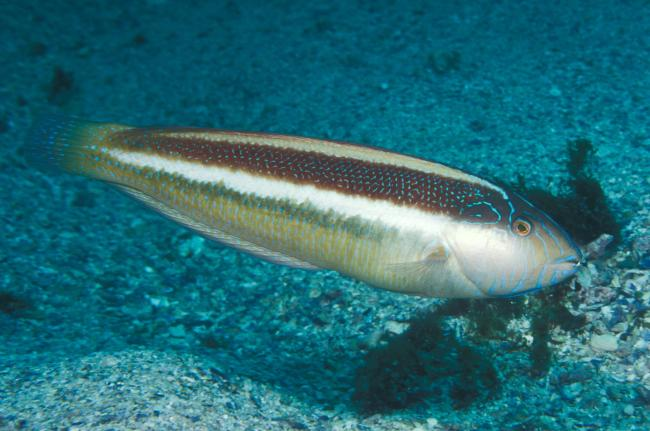fish: (25, 112, 583, 300)
